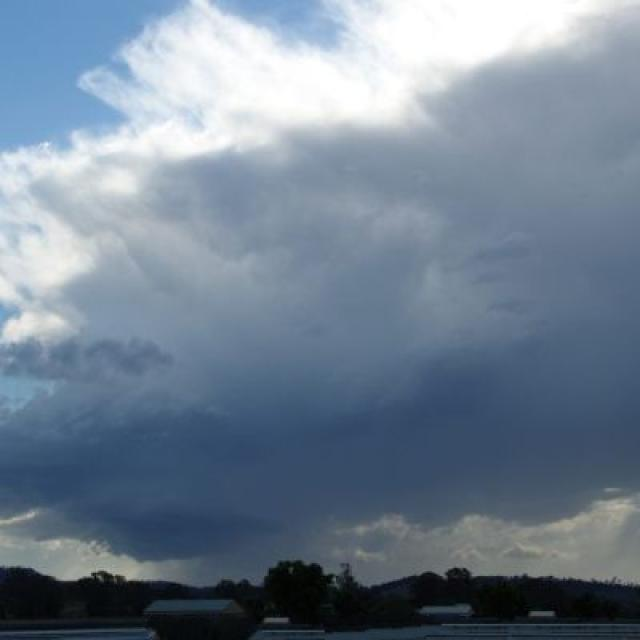Cb: (1, 47, 640, 475)
